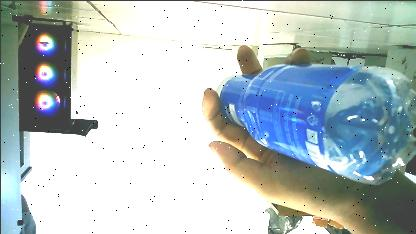Plastic Bottle: (209, 62, 416, 184)
